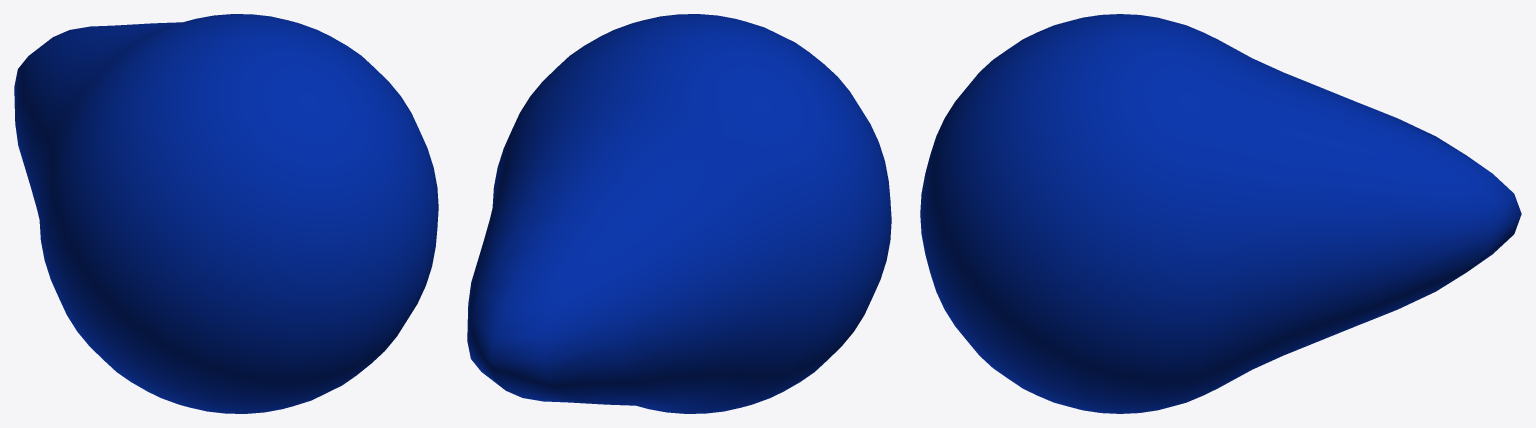
File: droplet.fbx
The picture shows the model from 3 angles, left to right: view 1: azimuth 30°, elevation 25°; view 2: azimuth 150°, elevation 25°; view 3: azimuth 270°, elevation 25°; orthographic projection.
Parts seen in each view (by area): view 1: pSphere1; view 2: pSphere1; view 3: pSphere1.
Boxes of the visible parts, left/top/right/bottom form: pSphere1: left=14, top=14, right=438, bottom=413; pSphere1: left=467, top=14, right=891, bottom=413; pSphere1: left=920, top=14, right=1521, bottom=413.
Size of the model in its own units: 2 by 2 by 3.01.
